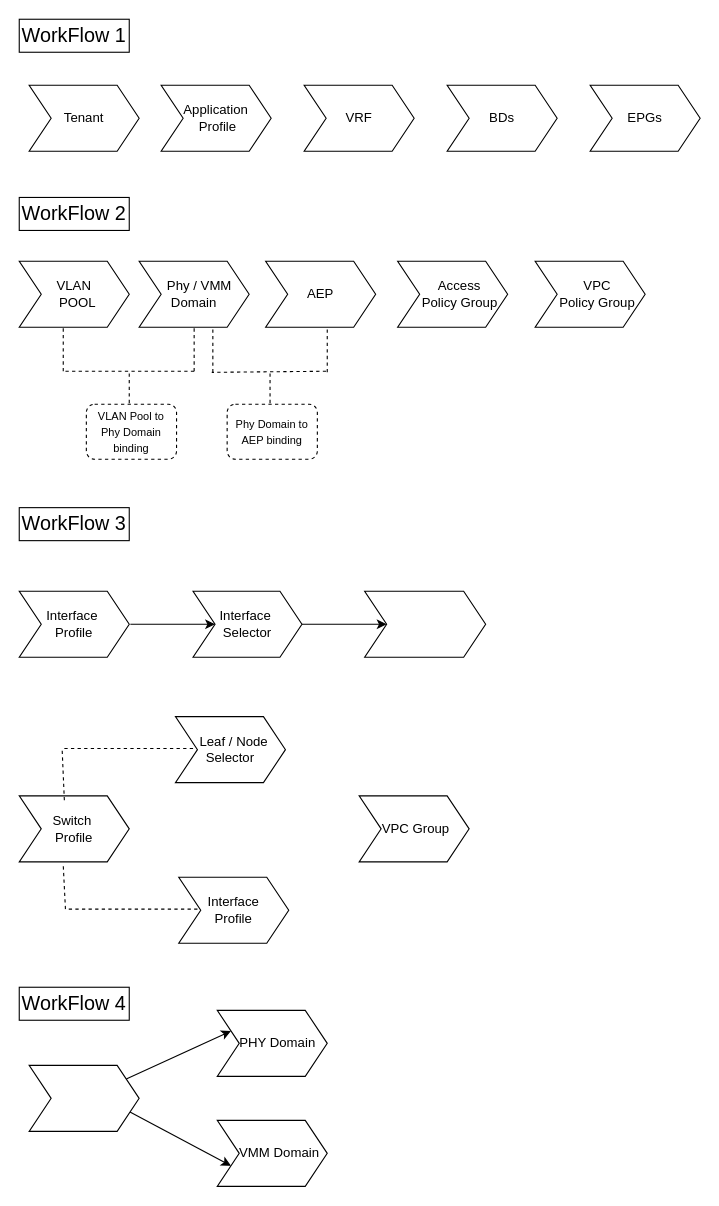
This 719x1206 diagram has some shape labels left out. Each missing label, with the centre of its shape:
Access/ VPC Policy Group: [425,623]
EPG: [83,1097]
